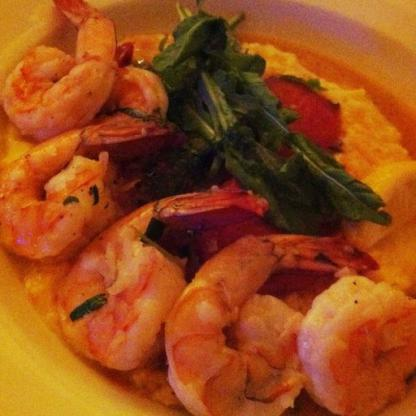shrimp: (170, 226, 365, 414), (54, 183, 250, 368), (0, 114, 164, 261), (0, 0, 115, 146)
